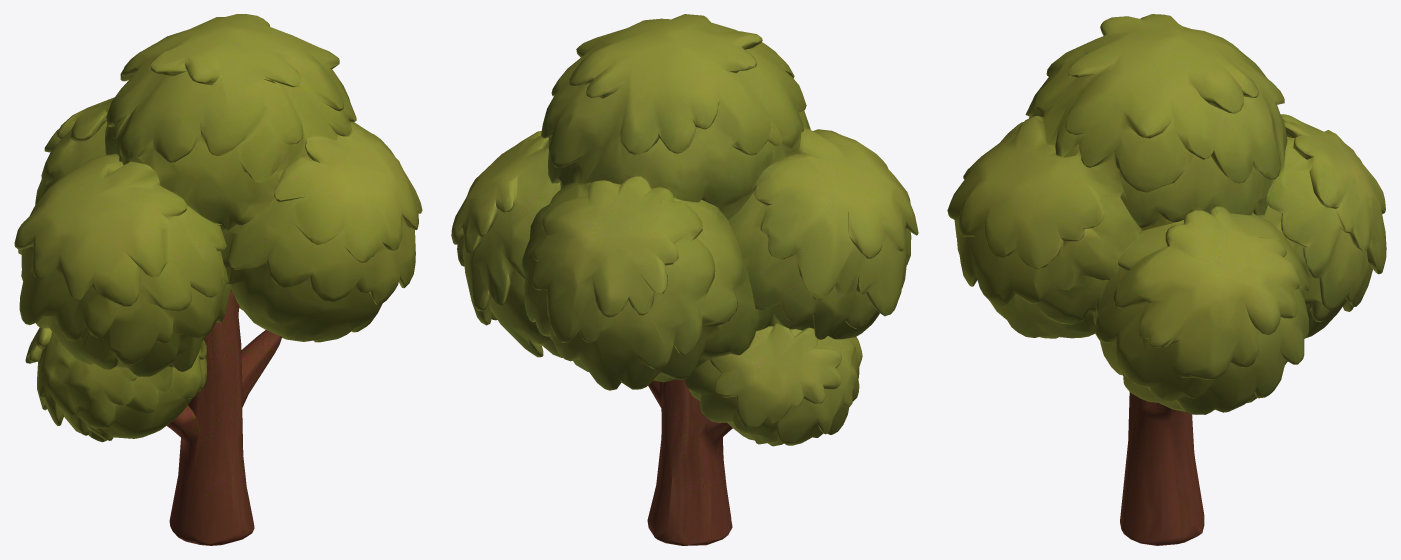
The model's file is tree.glb.
3 views of the same model, side by side, from view 1: azimuth 30°, elevation 25°; view 2: azimuth 150°, elevation 25°; view 3: azimuth 270°, elevation 25° (orthographic).
Size of the model in its own units: 1.6 by 1.9 by 1.51.
1 material, 1 textured.
